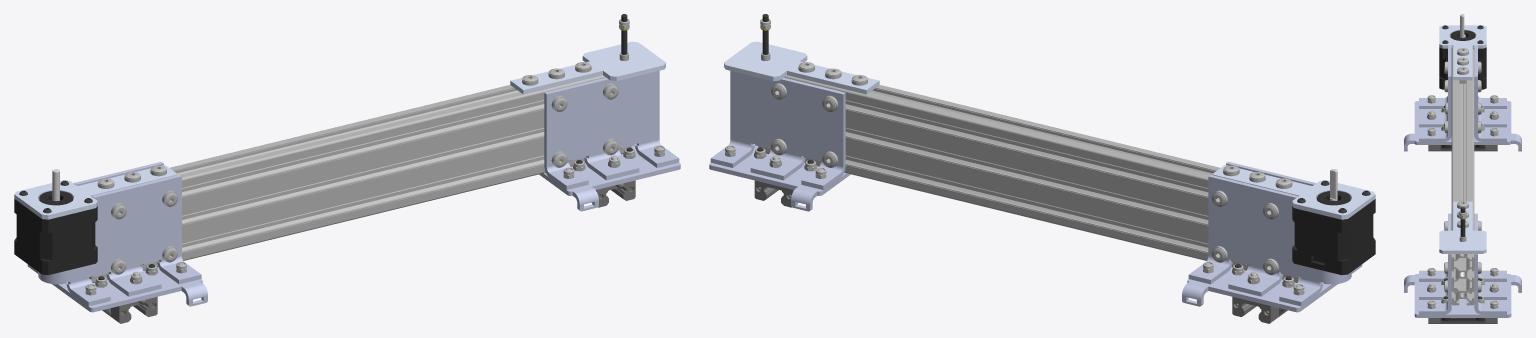
Rendered from y-axis-assembly.glb.
The picture shows the model from 3 angles, left to right: view 1: azimuth 30°, elevation 25°; view 2: azimuth 150°, elevation 25°; view 3: azimuth 270°, elevation 25°; orthographic projection. The views are drawn at different scales.
Visible parts, largest first — view 1: y-axis-assembly; view 2: y-axis-assembly; view 3: y-axis-assembly.
Part boxes in pixels (x1,y1,x2,y2): y-axis-assembly: (14, 14, 680, 323); y-axis-assembly: (709, 14, 1375, 323); y-axis-assembly: (1404, 14, 1521, 323).
Bounding box in the file's own units: 0.4703 × 0.1178 × 0.1041.
